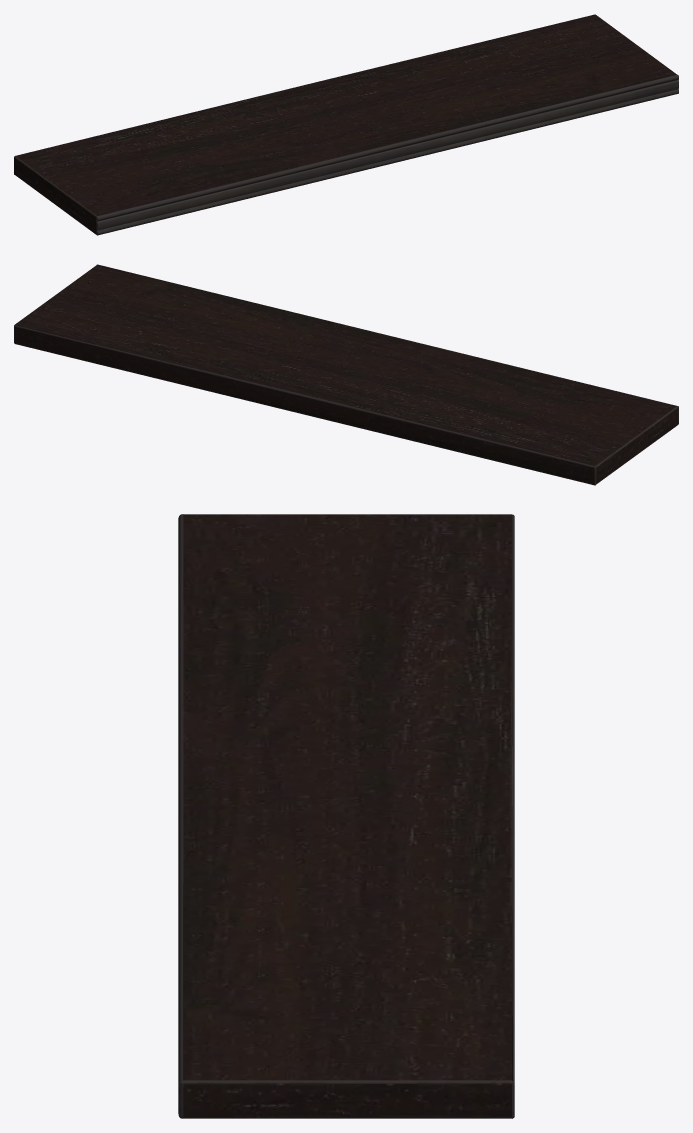
3 views of the same model, one above another, from view 1: azimuth 30°, elevation 25°; view 2: azimuth 150°, elevation 25°; view 3: azimuth 270°, elevation 25° (orthographic). The views are drawn at different scales.
Parts seen in each view (by area): view 1: model; view 2: model; view 3: model.
Part boxes in pixels (<box>): model: <box>14,14,678,235</box>; model: <box>14,264,678,485</box>; model: <box>178,514,514,1118</box>.
Size of the model in its own units: 0.8 by 0.0258 by 0.2.
1 material, 1 textured.
